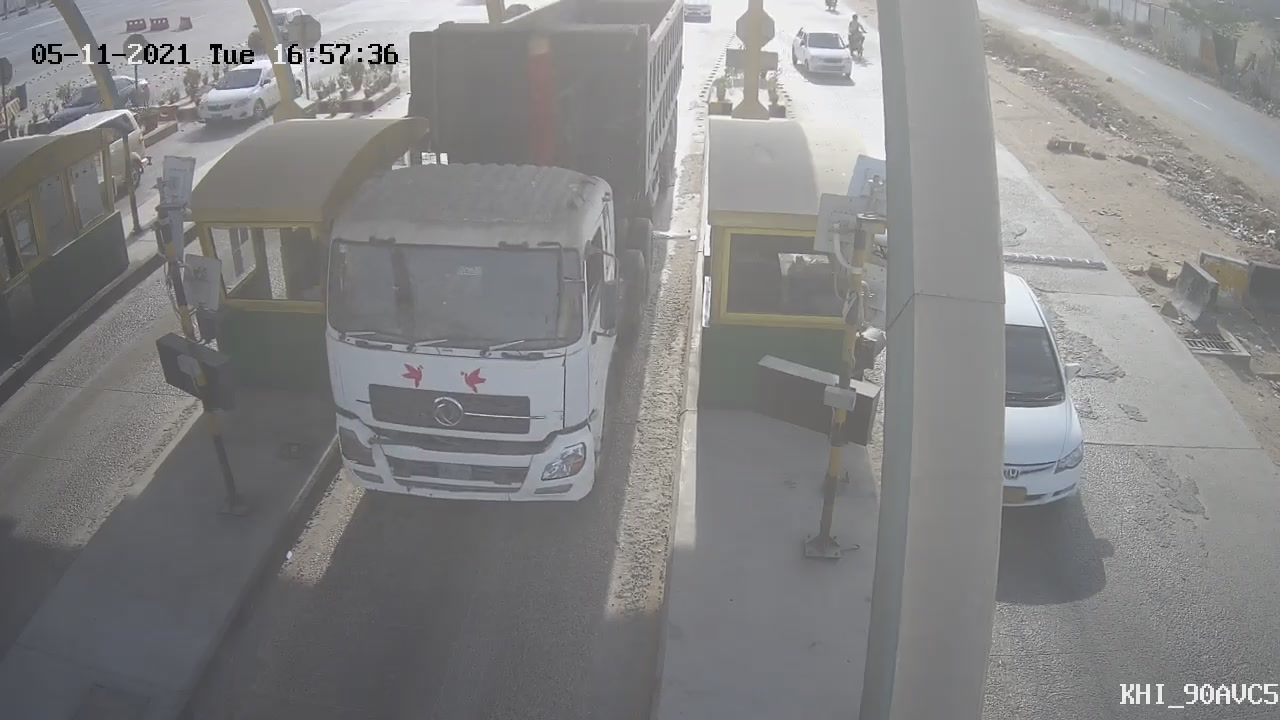F6: (279, 1, 705, 530)
